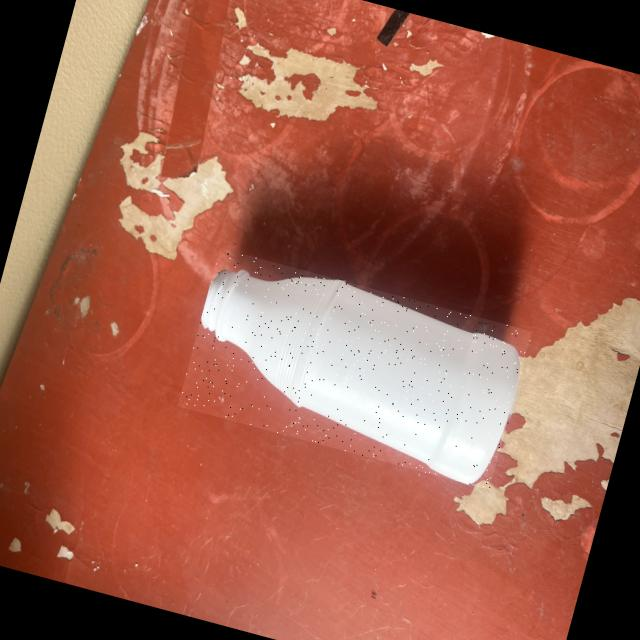HDPE_Bottle: (202, 271, 519, 484)
